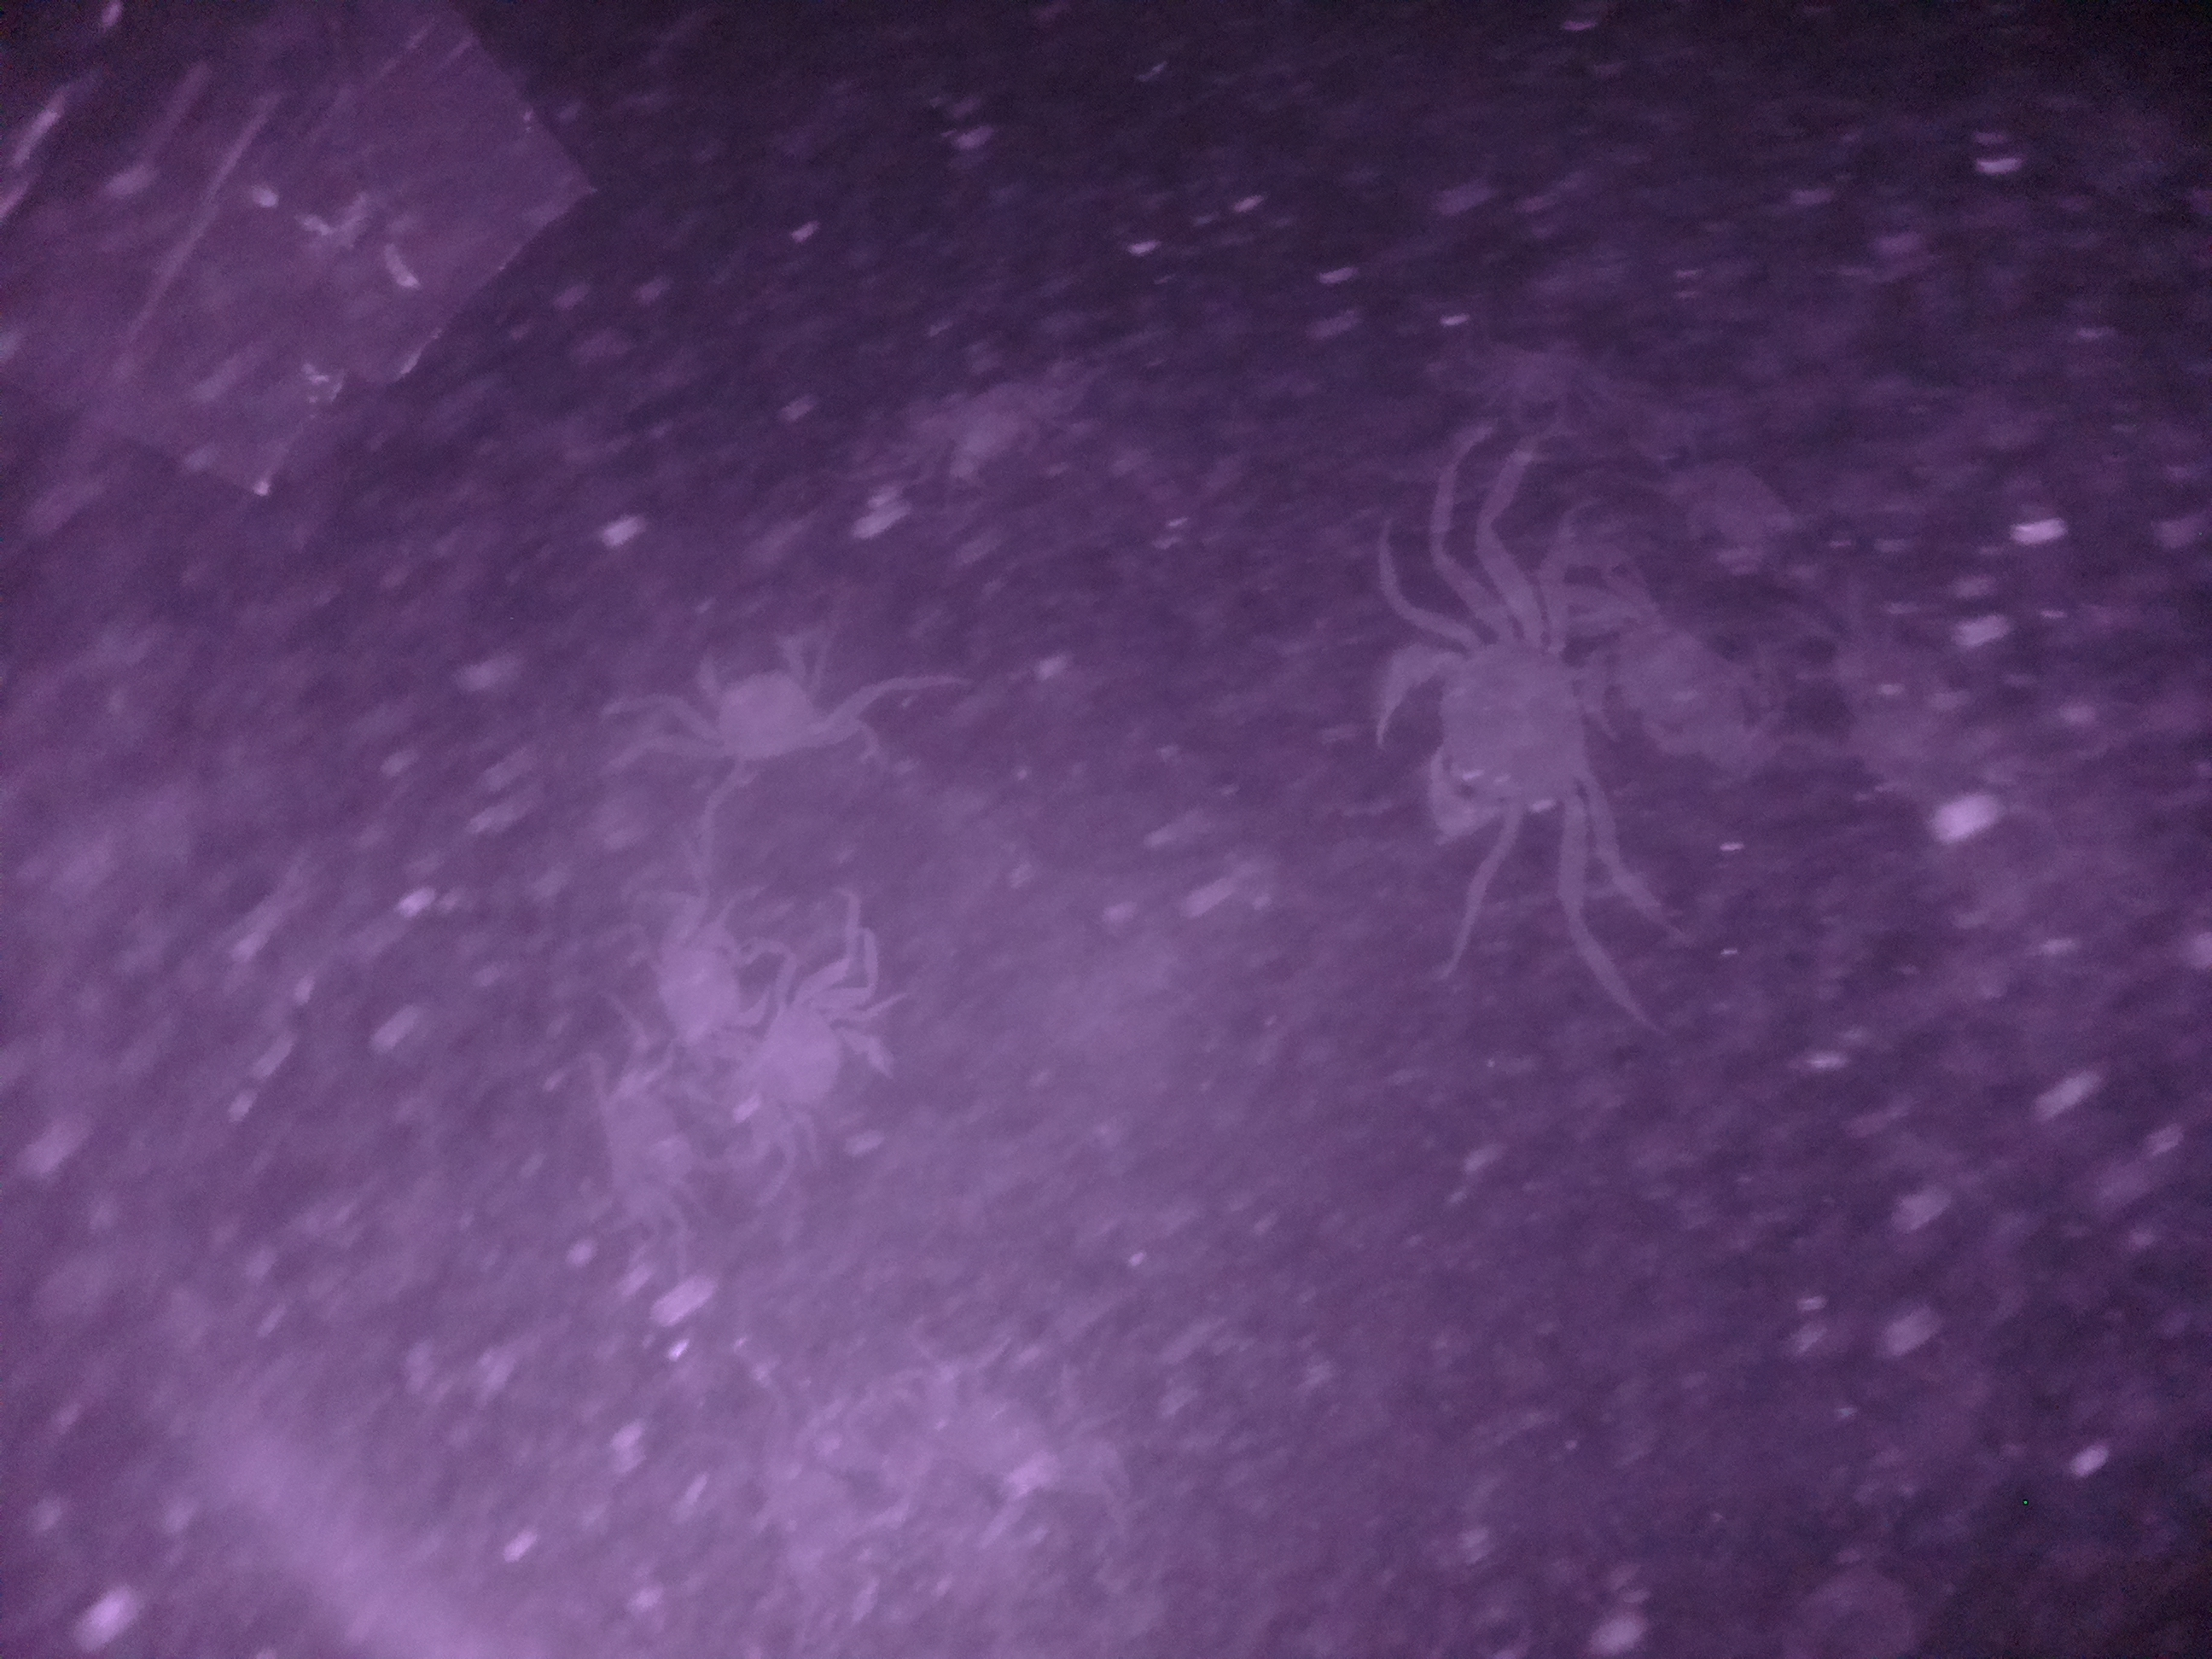Crab: (1338, 556, 1606, 887), (723, 945, 897, 1169)
